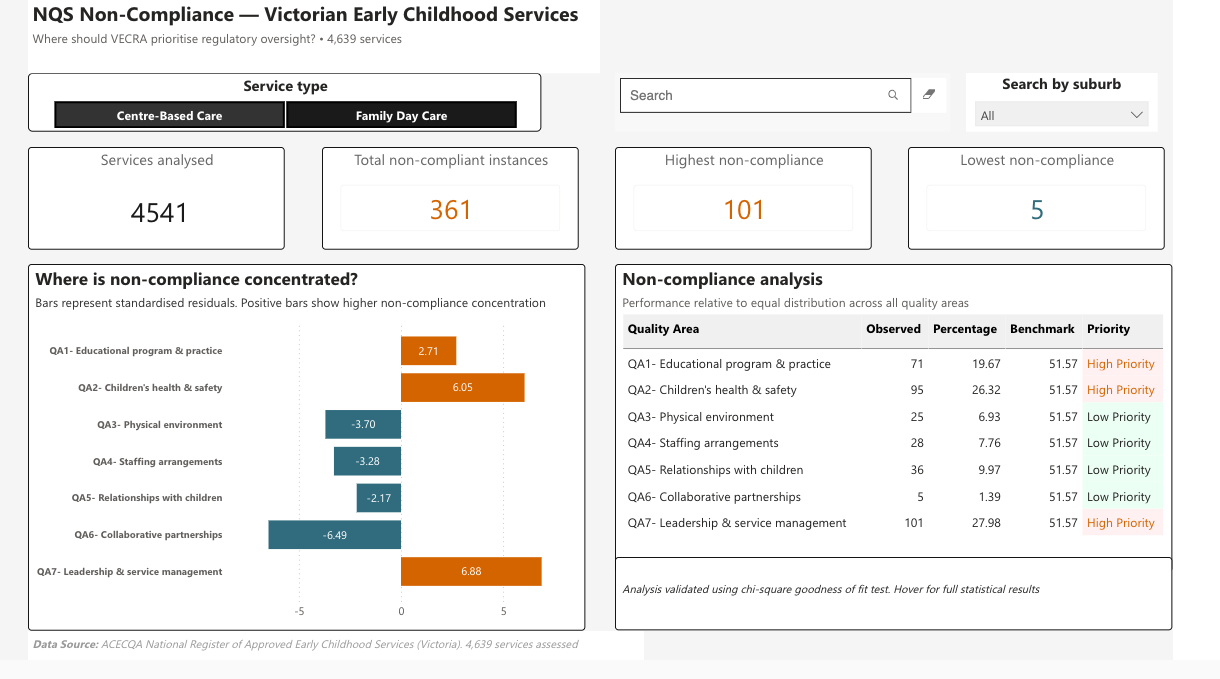

What the dashboard file says about the page in this screenshot:
{"tool":"powerbi","page":{"name":"Main Analysis","canvas":[1280,720],"ordinal":0},"visuals":[{"type":"slicer","title":"Service type","fields":{"Values":["Education-services-vic-just data.ServiceType"]},"box":[32,80,560,64],"z":0},{"type":"group","id":"g1","title":"Group 1","box":[672,80,592,64],"z":1000},{"type":"slicer","title":"Search by suburb","fields":{"Values":["Education-services-vic-just data.Suburb"]},"box":[1055.1,80,208.9,64],"z":1000,"group":"g1"},{"type":"textFilter25A4896A83E0487089E2B90C9AE57C8A","fields":{"field":["Education-services-vic-just data.Suburb"]},"box":[672,80,365.6,64],"z":2000,"group":"g1"},{"type":"cardVisual","title":"Services analysed","fields":{"Data":["Education-services-vic-just data.Total Services"]},"box":[32,160,280,112],"z":2000},{"type":"cardVisual","title":"Total non-compliant instances","fields":{"Data":["Education-services-vic-just data.Total_NC"]},"box":[352,160,280,112],"z":3000},{"type":"cardVisual","title":"Highest non-compliance","fields":{"Data":["Education-services-vic-just data.Highest_NC"]},"box":[672,160,280,112],"z":4000},{"type":"cardVisual","title":"Lowest non-compliance","fields":{"Data":["Education-services-vic-just data.Lowest_NC"]},"box":[992,160,280,112],"z":5000},{"type":"clusteredBarChart","title":"Where is non-compliance concentrated?","fields":{"Category":["QA_table.Quality_Area"],"Y":["Education-services-vic-just data.Std_Residual_Display"]},"box":[32,288,608,400],"z":6000},{"type":"tableEx","title":"Non-compliance analysis","fields":{"Values":["QA_table.Quality_Area","Education-services-vic-just data.Observed_Table","Education-services-vic-just data.NC_percentage","Education-services-vic-just data.Expected_display","Education-services-vic-just data.Performance"]},"box":[672,288,608,336],"z":7000},{"type":"textbox","box":[672,608,608,80],"z":8000},{"type":"textbox","box":[32,688,672,32],"z":9000},{"type":"textbox","title":"NQS Non-Compliance — Victorian Early Childhood Services","box":[32,0,624,80],"z":10000}]}

Visuals, with their boxes in screenshot pixels (x1, y1, x2, y2), scaled from the page's 1280x720 canvas onto the 1220x679 screenshot:
"Service type" slicer: x1=30 y1=75 x2=564 y2=136
"Group 1" group: x1=640 y1=75 x2=1205 y2=136
"Search by suburb" slicer: x1=1006 y1=75 x2=1205 y2=136
textFilter25A4896A83E0487089E2B90C9AE57C8A - Education-services-vic-just data.Suburb: x1=640 y1=75 x2=989 y2=136
"Services analysed" cardVisual: x1=30 y1=151 x2=297 y2=257
"Total non-compliant instances" cardVisual: x1=336 y1=151 x2=602 y2=257
"Highest non-compliance" cardVisual: x1=640 y1=151 x2=907 y2=257
"Lowest non-compliance" cardVisual: x1=946 y1=151 x2=1212 y2=257
"Where is non-compliance concentrated?" clusteredBarChart: x1=30 y1=272 x2=610 y2=649
"Non-compliance analysis" tableEx: x1=640 y1=272 x2=1219 y2=588
textbox: x1=640 y1=573 x2=1219 y2=649
textbox: x1=30 y1=649 x2=671 y2=678
"NQS Non-Compliance — Victorian Early Childhood Services" textbox: x1=30 y1=0 x2=625 y2=75
